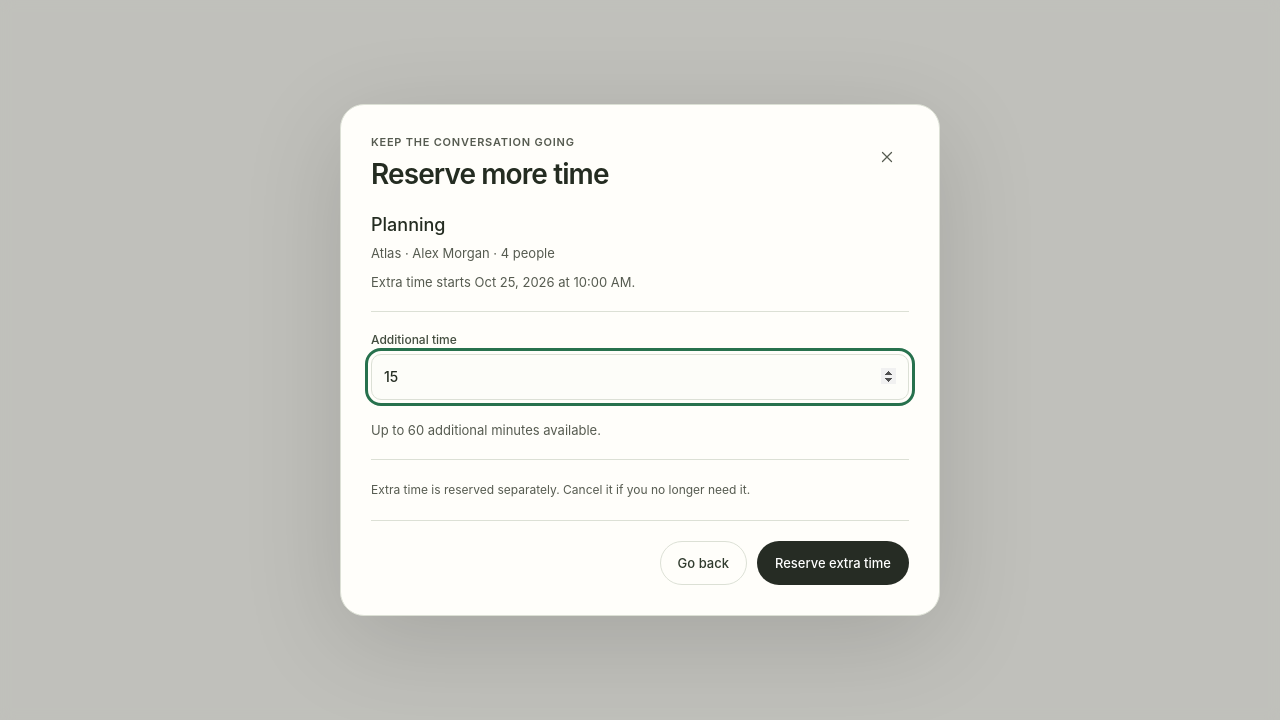
Scenario: additional time › refreshes the gap after a conflicting save instead of closing or silently extending
Step 1. Replace the text in the number field labelled "Additional time" with "30" → (640,377), box [371,354,909,400]
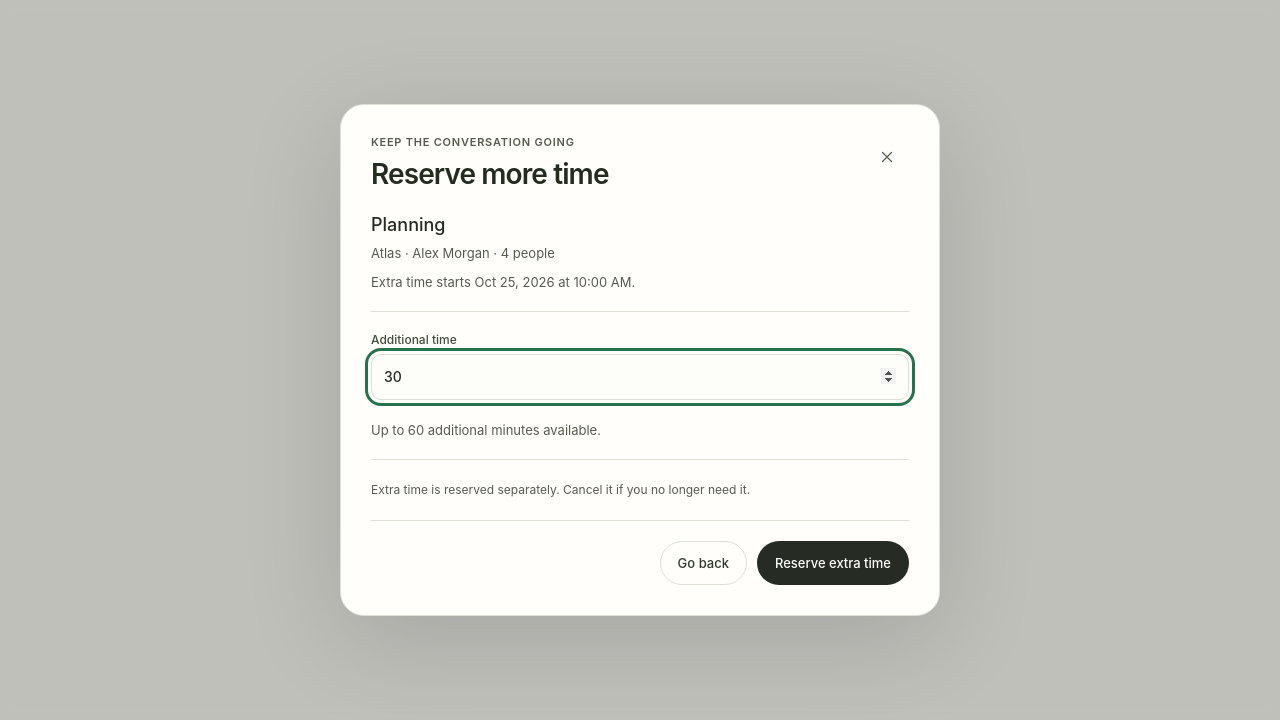
Step 2. Click the button "Reserve extra time" → (833,563), box [757,541,909,585]
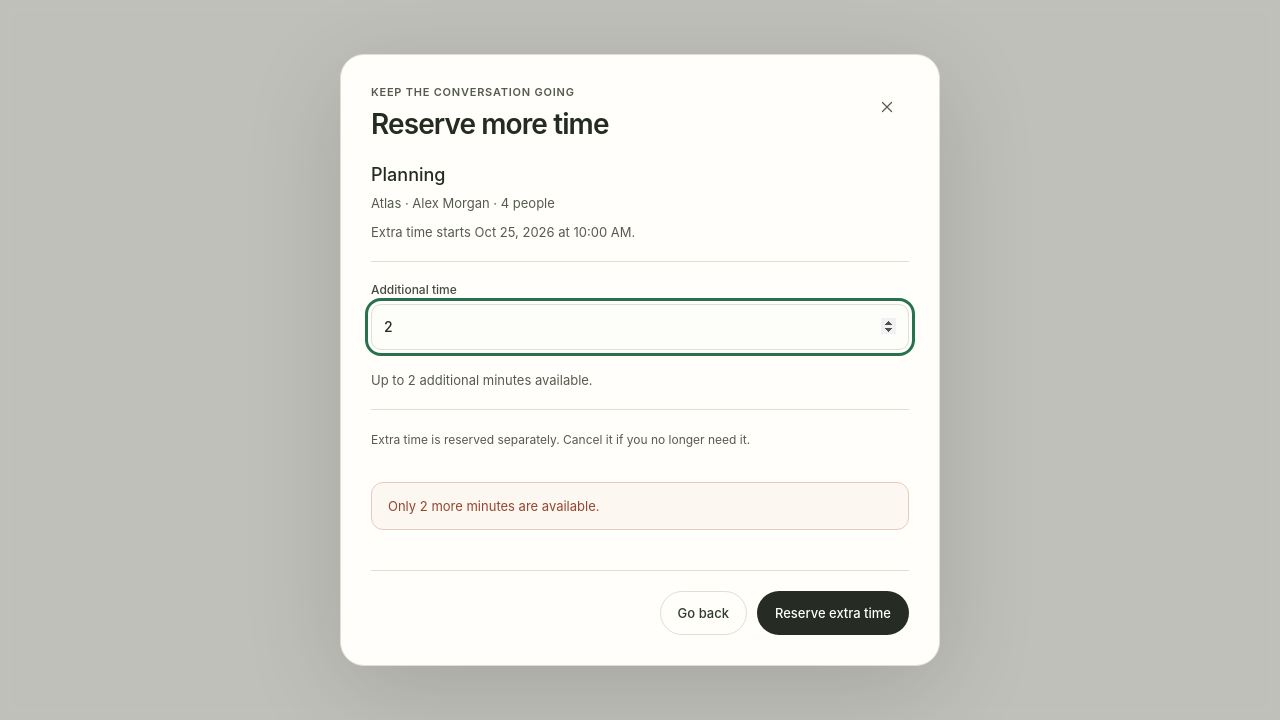
Expected: the message shows "Only 2 more minutes", [388,498,600,514]
Expected: the text "Up to 2 additional minutes available." is shown, [371,372,593,388]
Expected: the number field labelled "Additional time" holds "2", [371,304,909,350]
